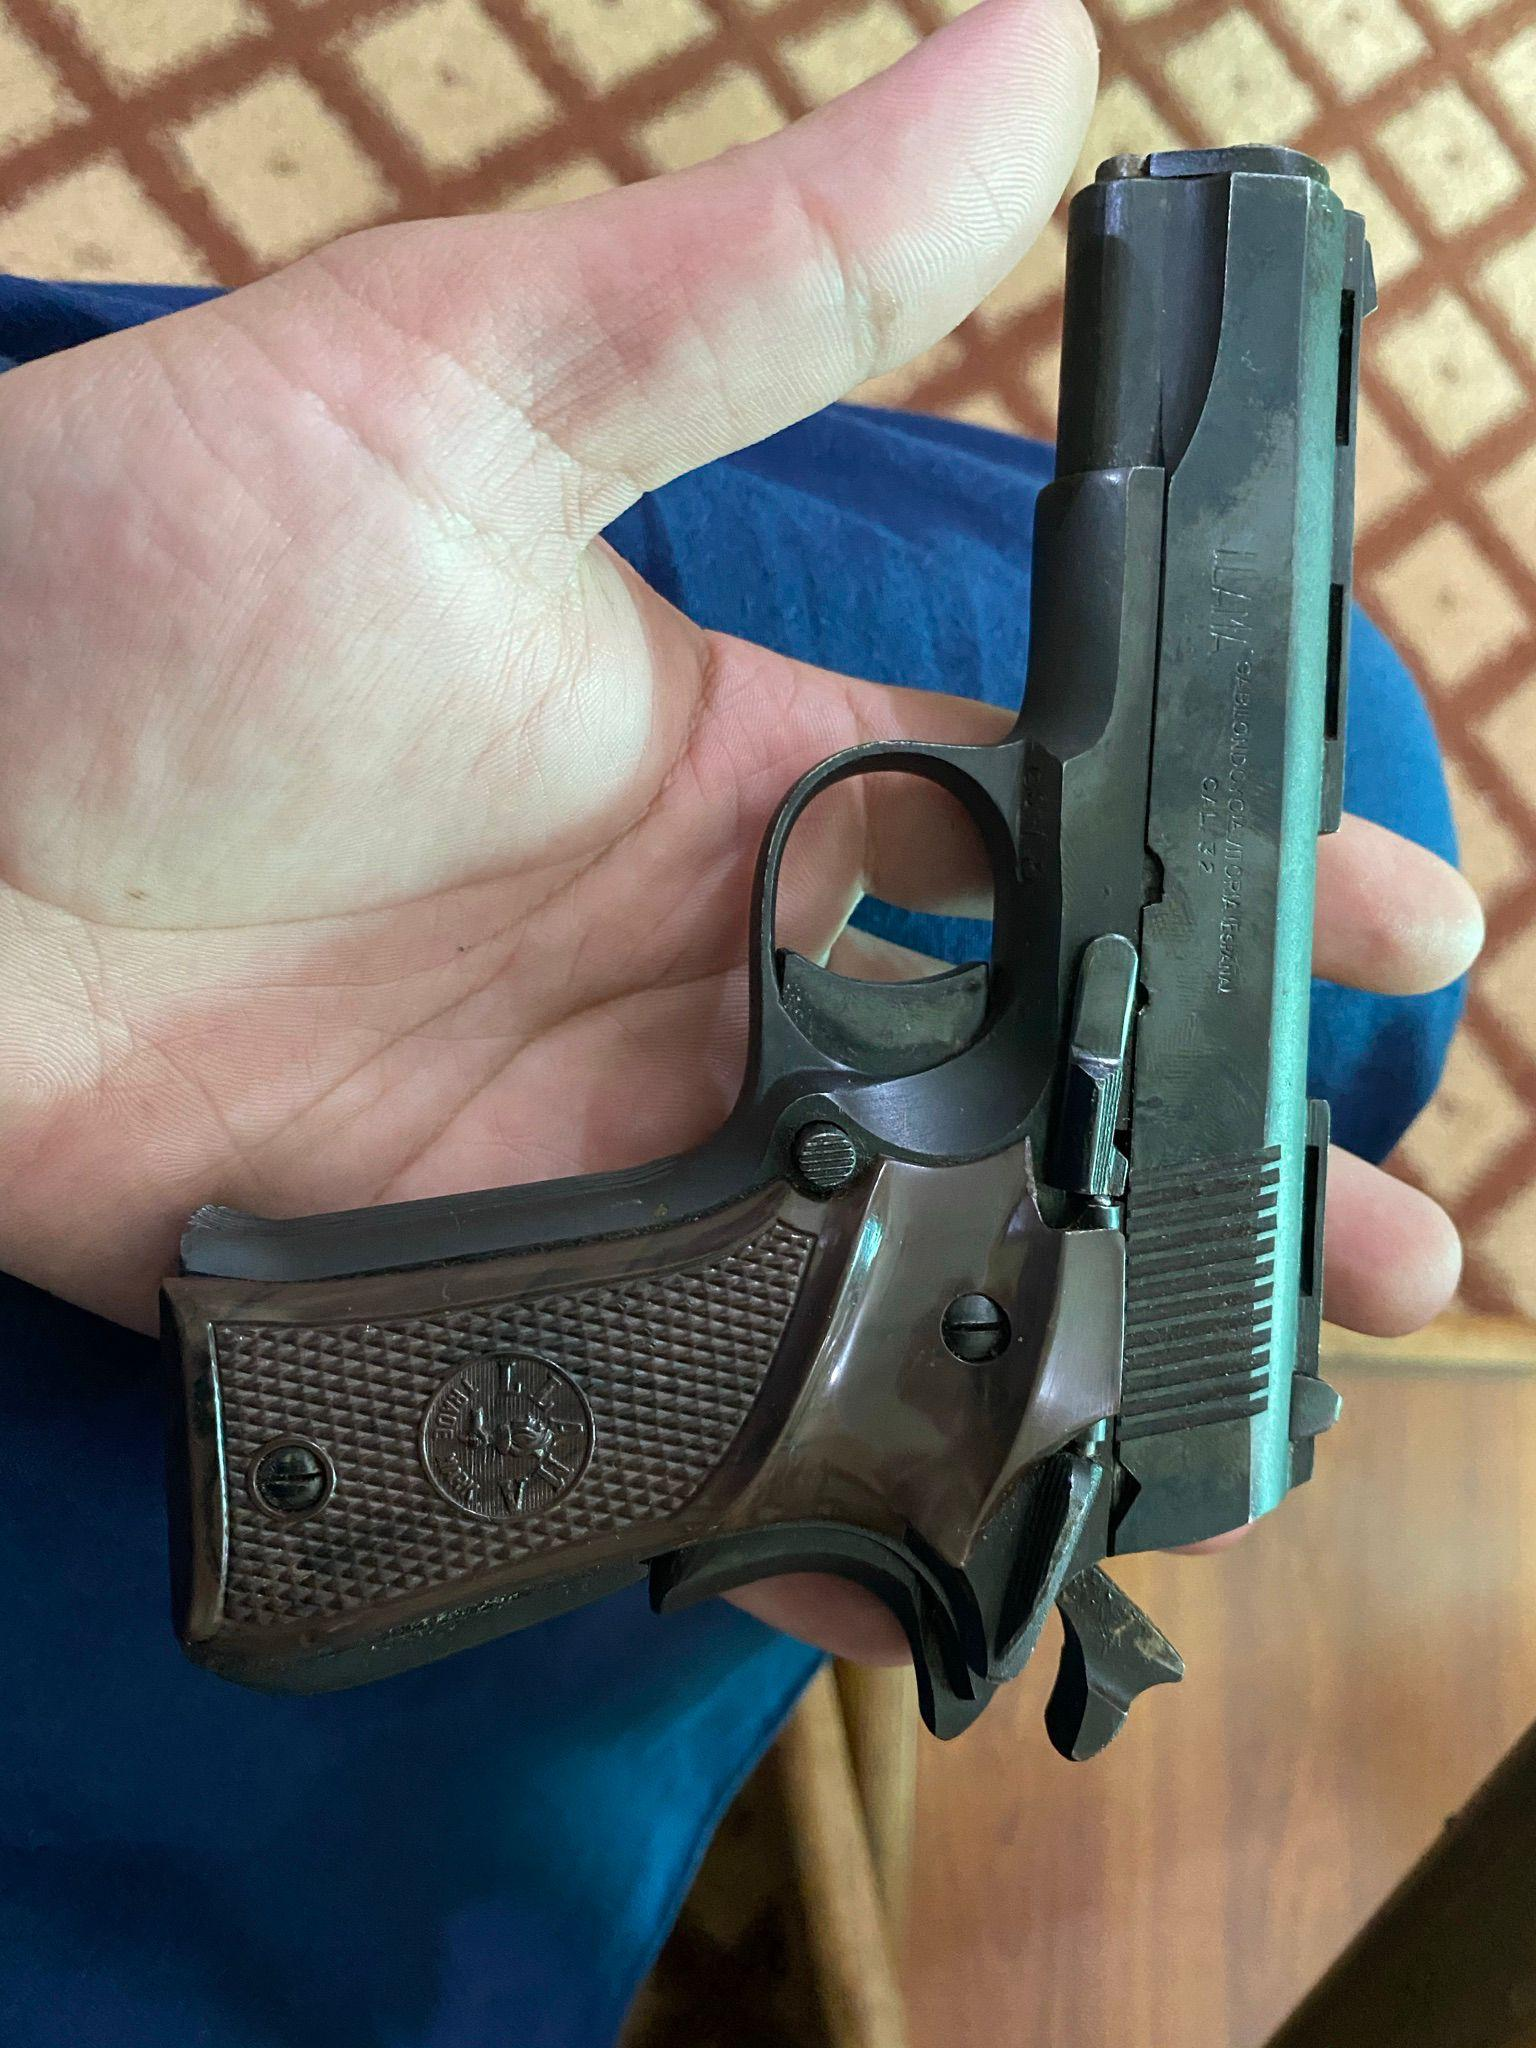weapon: (157, 135, 1381, 1763)
